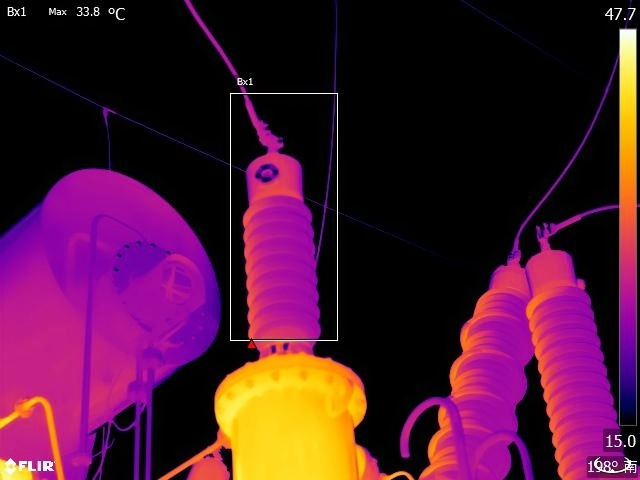oil conservator: (1, 145, 232, 465)
tube: (416, 255, 548, 480), (517, 223, 630, 480), (230, 123, 343, 364)
